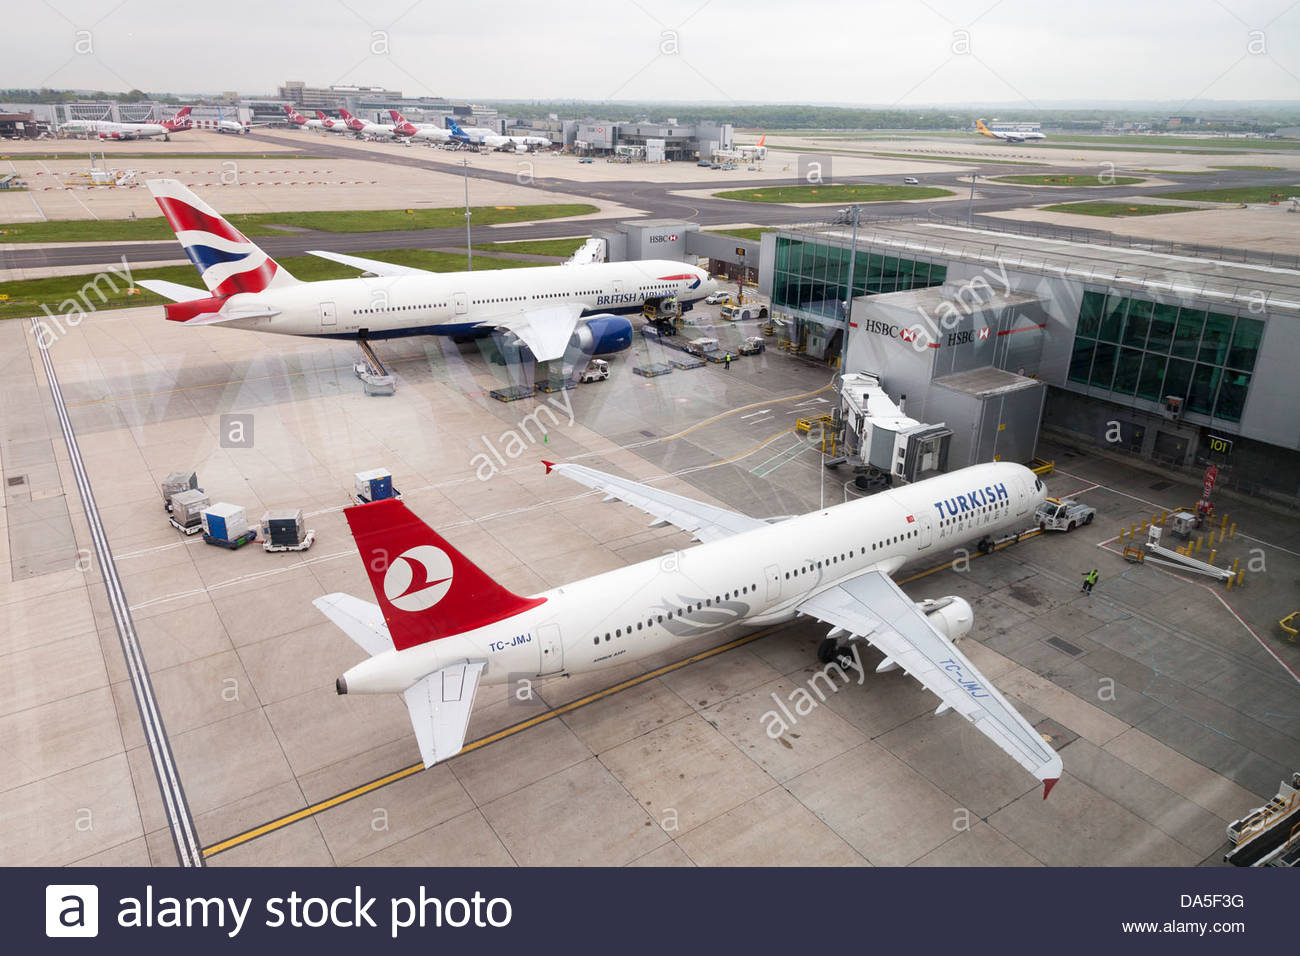aeroplane: (307, 452, 1072, 796), (151, 173, 706, 370), (49, 111, 186, 143), (283, 98, 375, 131), (344, 108, 438, 140), (319, 107, 400, 134), (974, 117, 1047, 143), (386, 119, 468, 139), (205, 110, 260, 136), (480, 133, 557, 148), (447, 127, 506, 140)
